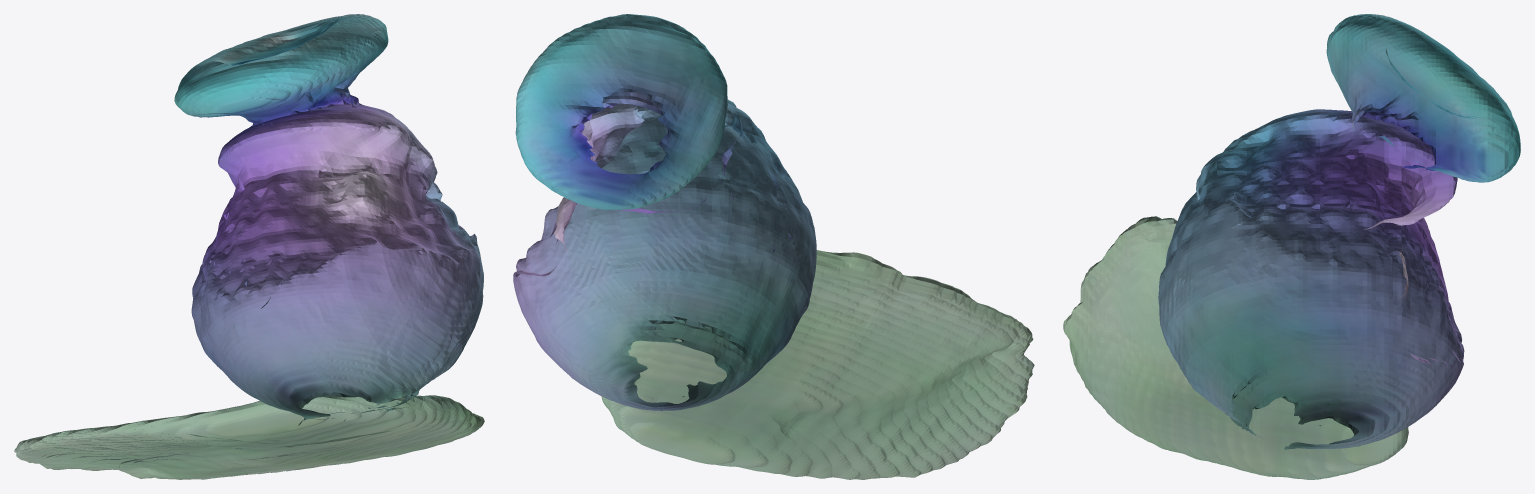
3 views of the same model, side by side, from view 1: azimuth 30°, elevation 25°; view 2: azimuth 150°, elevation 25°; view 3: azimuth 270°, elevation 25° (orthographic). The views are drawn at different scales.
Visible parts, largest first — view 1: geometry_0; view 2: geometry_0; view 3: geometry_0.
Part boxes in pixels (left/top/right/bottom): geometry_0: left=14, top=14, right=484, bottom=479; geometry_0: left=513, top=14, right=1034, bottom=479; geometry_0: left=1063, top=14, right=1520, bottom=479.
Size of the model in its own units: 1.6 by 1.37 by 1.32.
